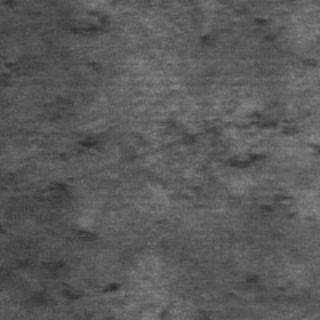rolled pit: (178, 93, 304, 187)
